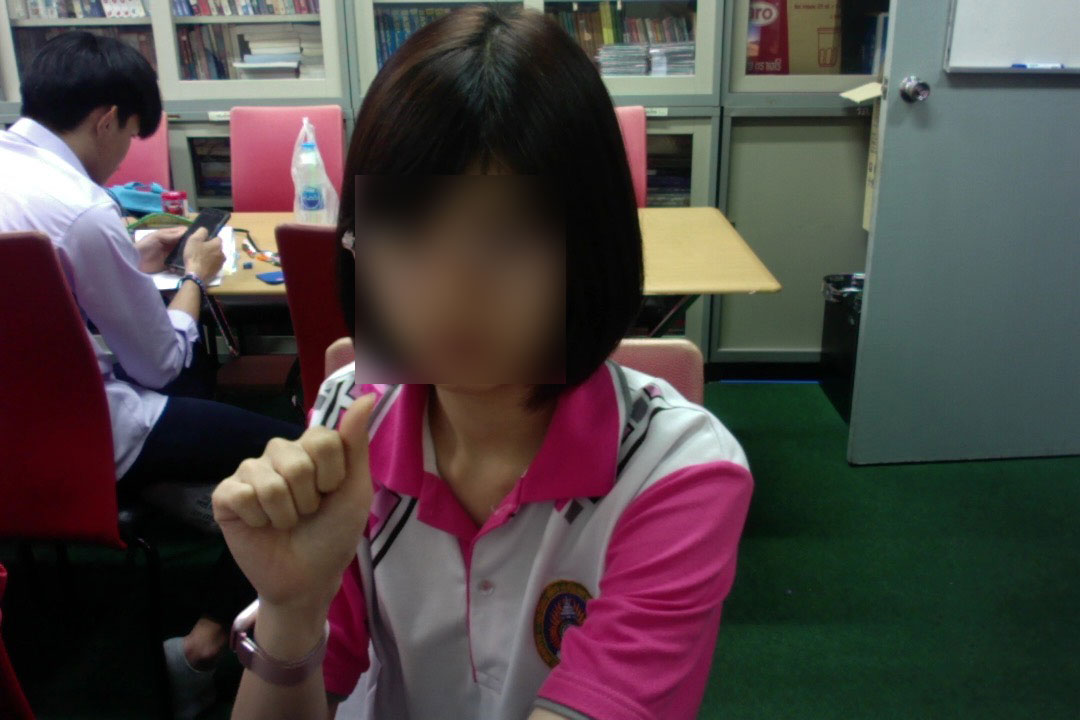or: (203, 381, 392, 611)
